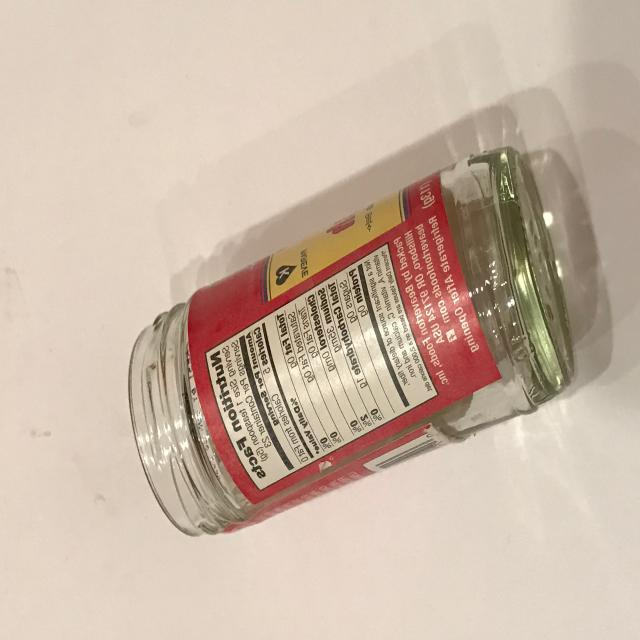glass: (128, 138, 572, 540)
